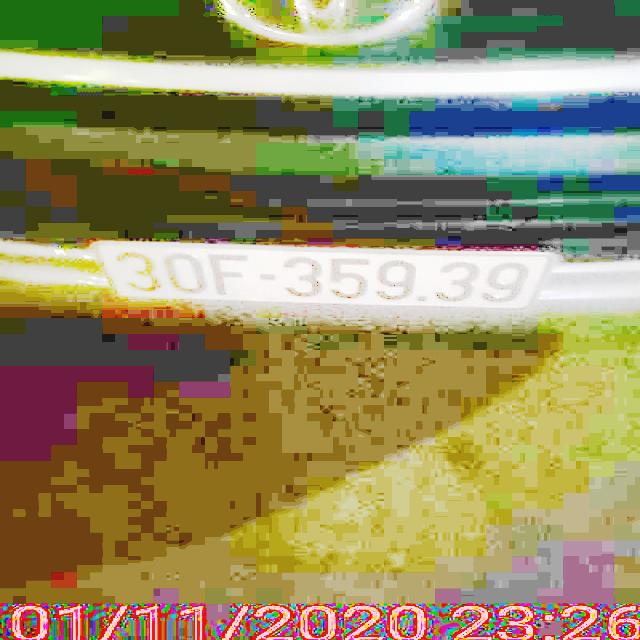license_plate: (100, 243, 551, 311)
